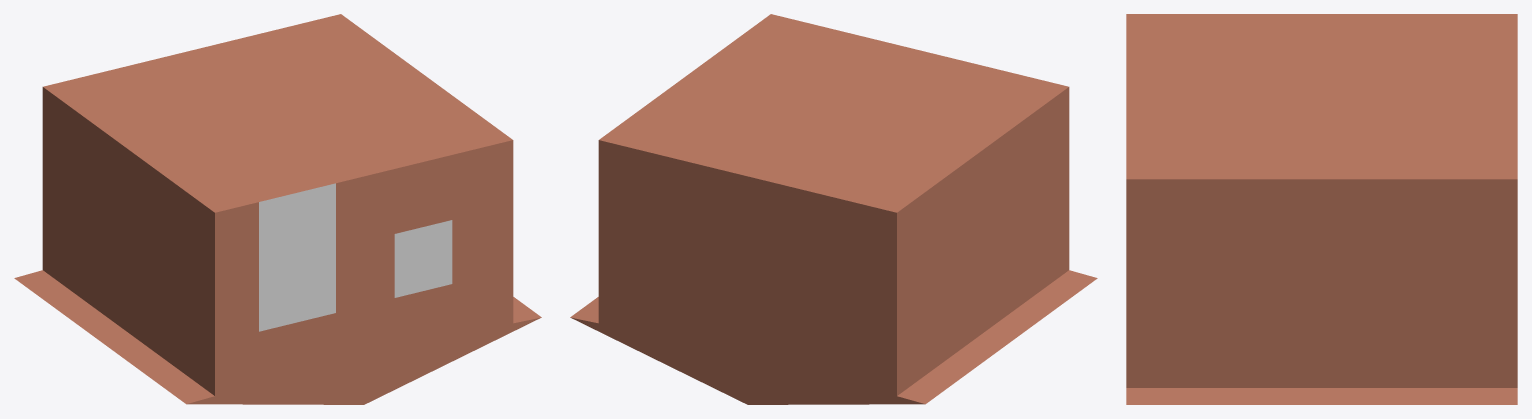
File: singleNightStand.fbx
3 renders of one model, left to right at view 1: azimuth 30°, elevation 25°; view 2: azimuth 150°, elevation 25°; view 3: azimuth 270°, elevation 25°, orthographic. The views are drawn at different scales.
Parts seen in each view (by area): view 1: Cube.207; view 2: Cube.207; view 3: Cube.207.
Part boxes in pixels (left/top/right/bottom): Cube.207: left=14, top=14, right=541, bottom=404; Cube.207: left=570, top=14, right=1097, bottom=404; Cube.207: left=1126, top=14, right=1517, bottom=404.
Size of the model in its own units: 184 by 113 by 155.
